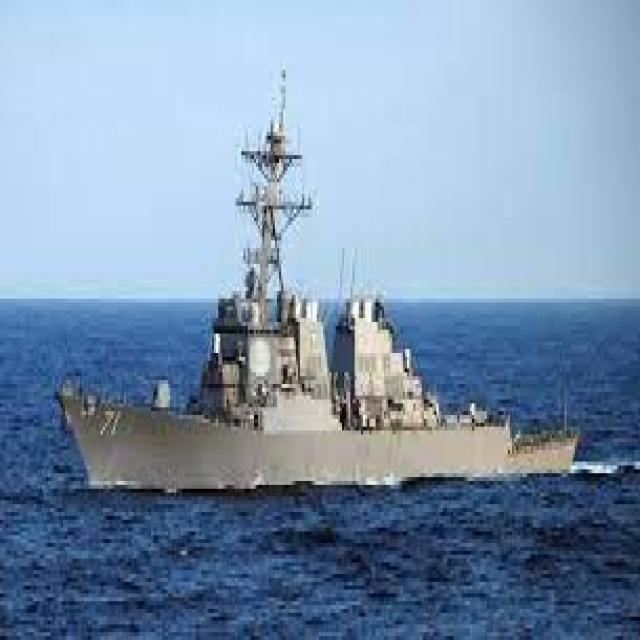navalvessels: (50, 69, 585, 501)
